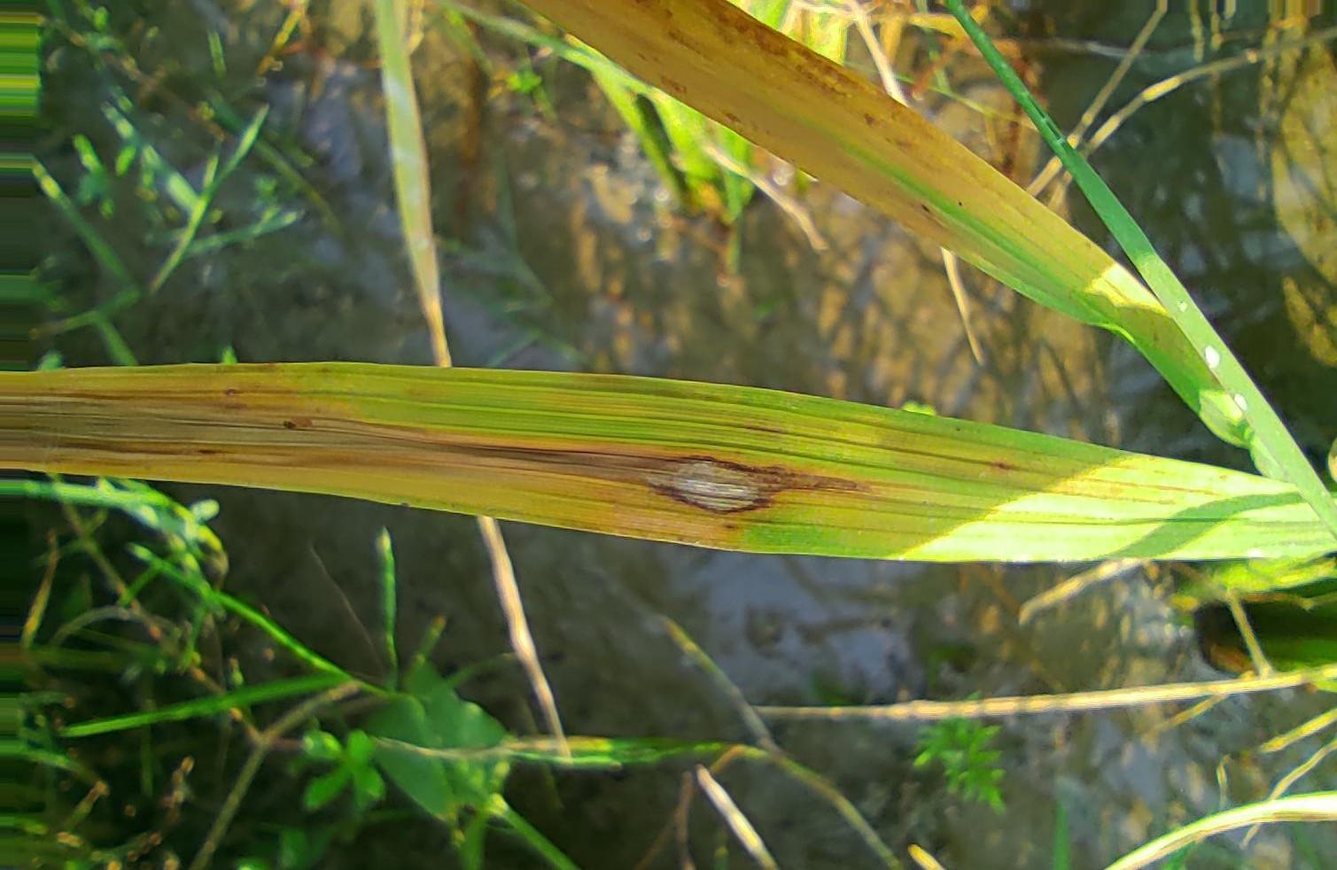LEAF: (35, 362, 1336, 562)
LEAF BLAST: (634, 454, 857, 516)
